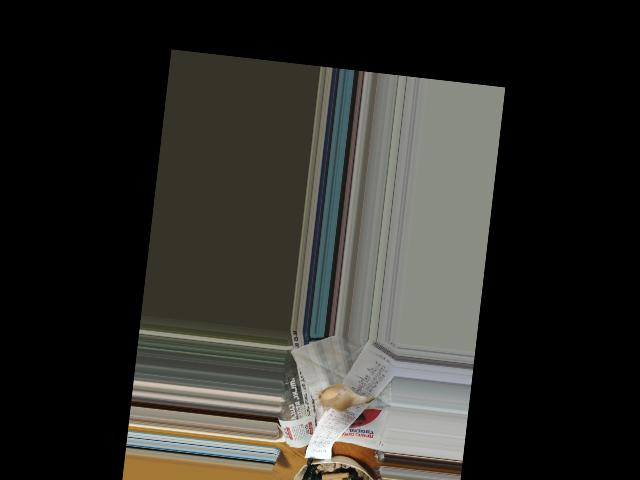onion: (319, 384, 356, 411)
